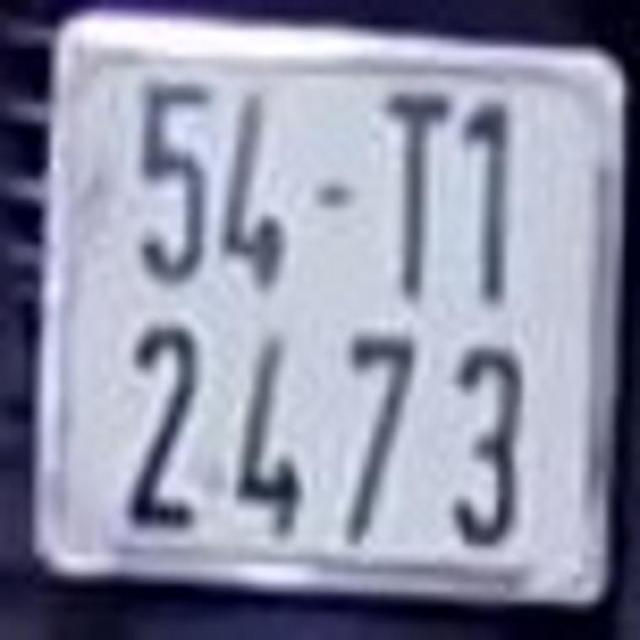1: (462, 82, 517, 309)
2: (127, 320, 195, 538)
3: (450, 336, 522, 551)
4: (229, 328, 304, 545), (220, 72, 287, 293)
5: (139, 69, 212, 290)
7: (343, 322, 420, 549)
T: (382, 66, 452, 303)
